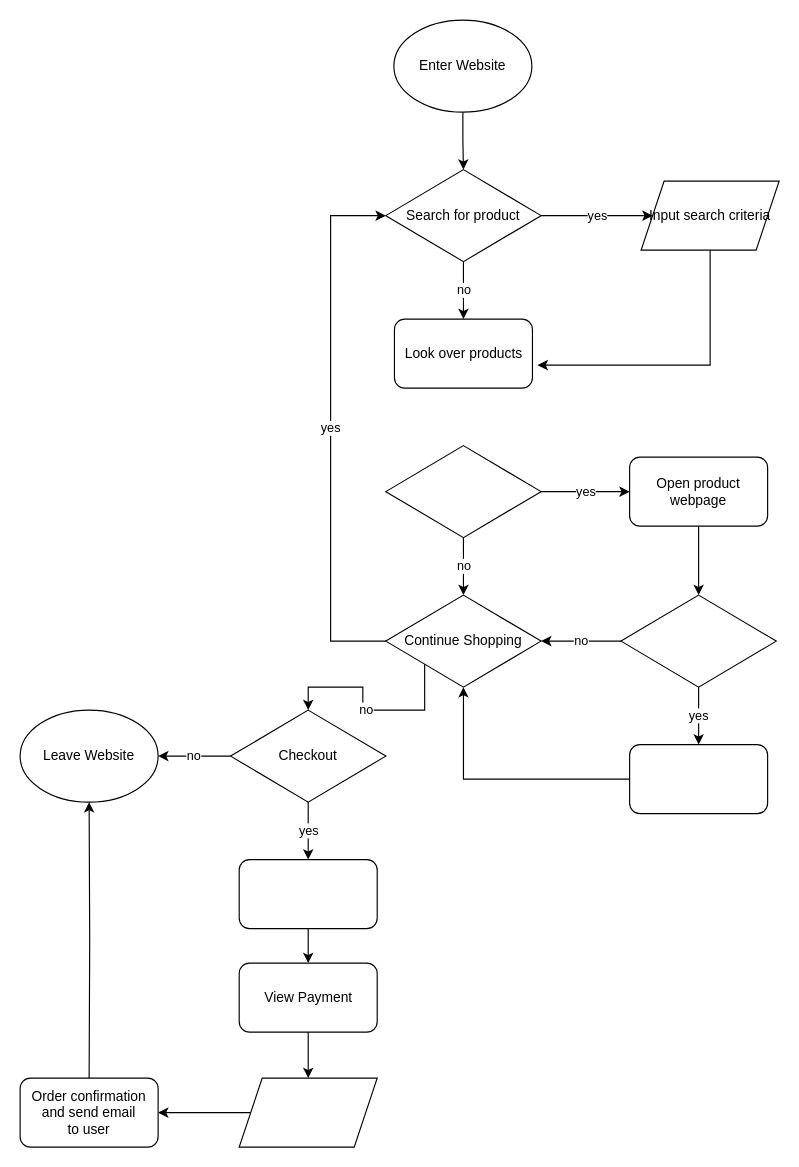
Some shapes in this 799 by 1167 pixel diagram are drawn without their labels. Here are the shapes that lost their labels. From the top down, the centre of each, then its label:
At (463,491): "View Specific Product".
At (698,640): "Add to cart".
At (698,778): "Added to cart confirmation".
At (307,893): "View Cart".
At (307,1112): "Input Payment Information".
